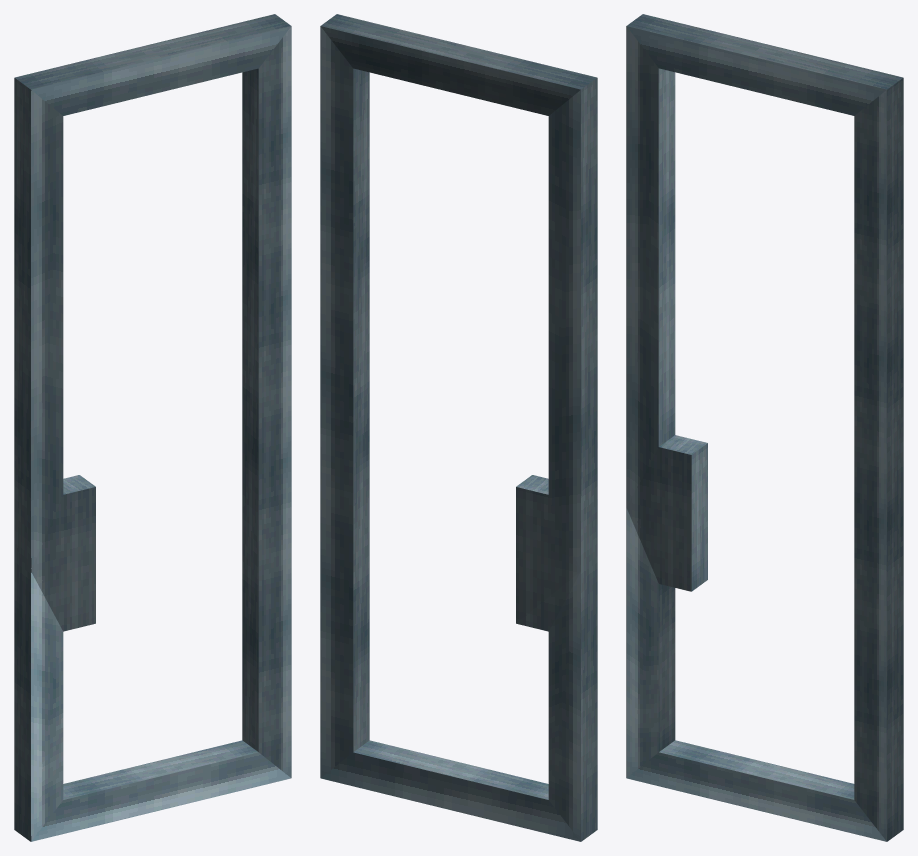
The model's file is primary_262.glb.
3 views of the same model, side by side, from view 1: azimuth 30°, elevation 25°; view 2: azimuth 150°, elevation 25°; view 3: azimuth 330°, elevation 25° (orthographic).
Visible parts, largest first — view 1: Object; view 2: Object; view 3: Object.
Boxes of the visible parts, x1,y1,x2,y2 form: Object: (14,14,291,841); Object: (320,14,597,841); Object: (626,14,903,841).
Size of the model in its own units: 1.2 by 3.31 by 0.1313.
21 materials, 21 textured.
